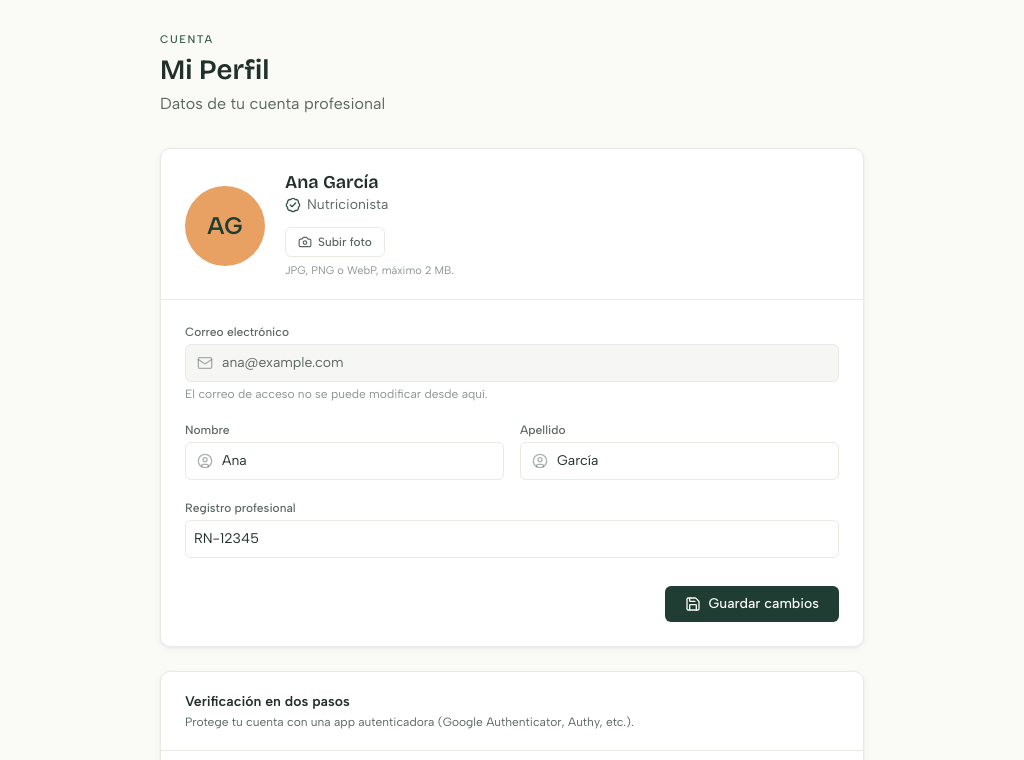
MiPerfil › handleSubmit — validación › muestra error si el nombre está vacío al guardar
Clear the field showing "Ana" at (344, 461), box [185,442,504,480]
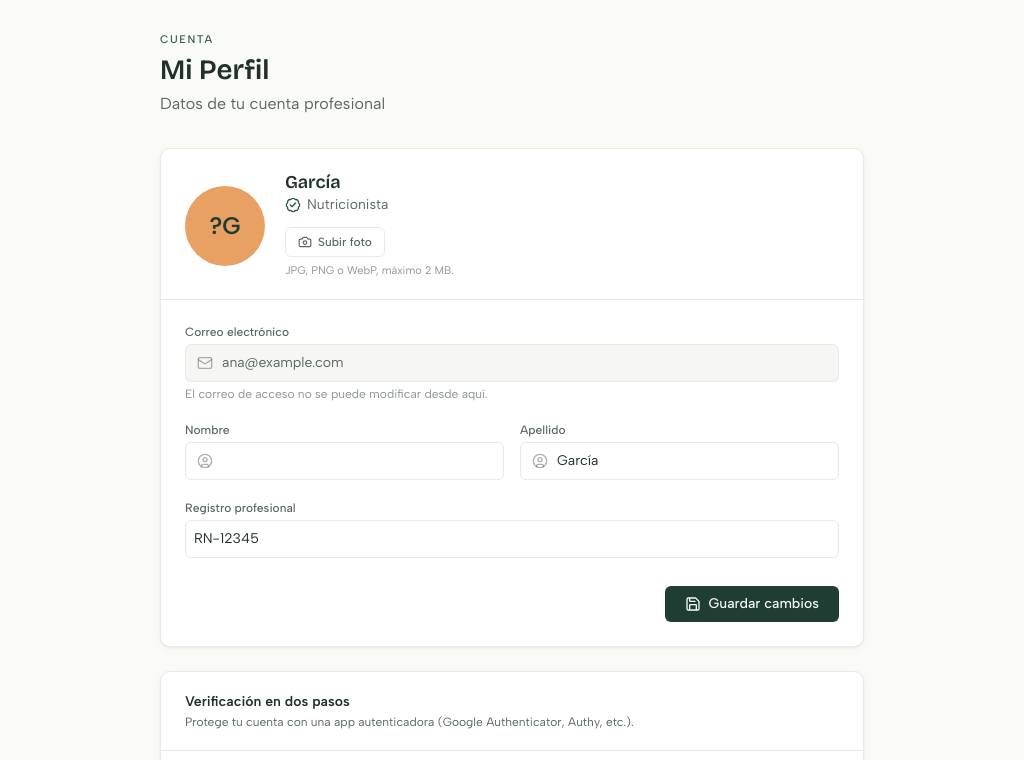
Note: fireEvent.submit bypasses native HTML5 required-field validation
Submit the form named "Guardar cambios", box [161,300,863,646]
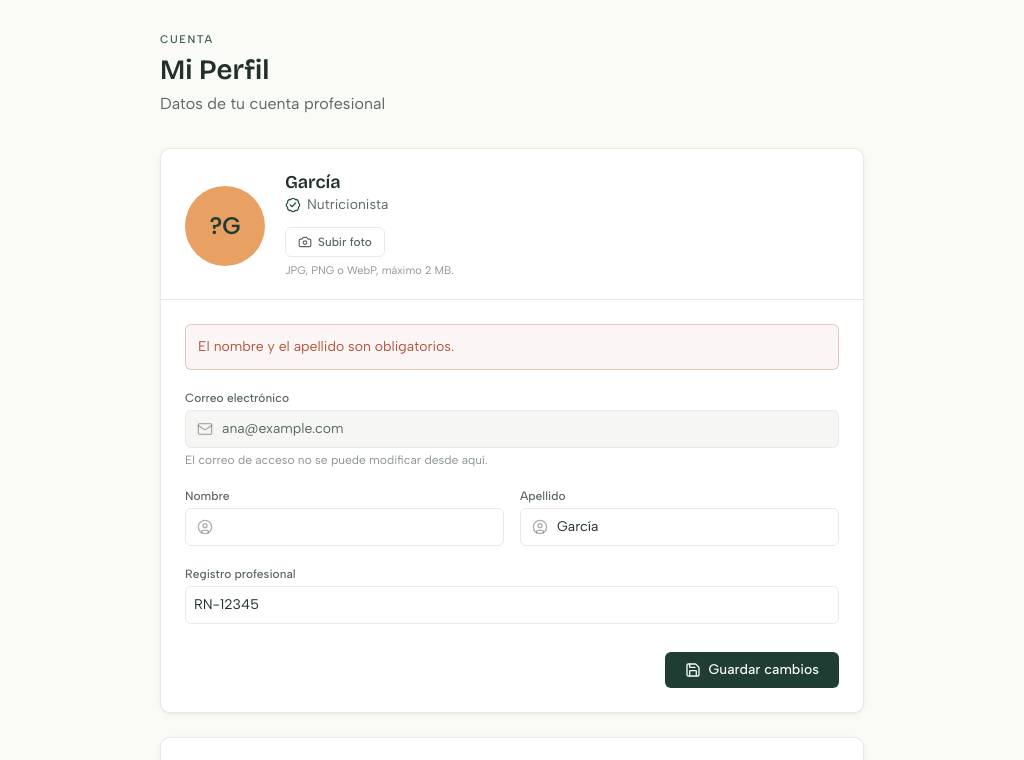
Expected: the text "El nombre y el apellido son obligatorios." is shown, [185,324,839,370]
